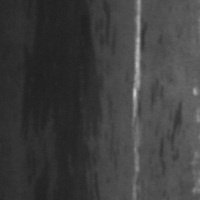inclusion: (24, 2, 104, 199), (154, 98, 185, 176)
scratches: (128, 1, 146, 185)
